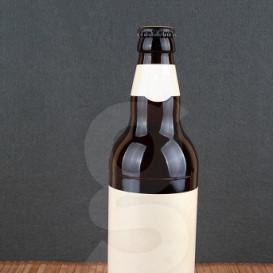beer: (103, 25, 200, 272)
